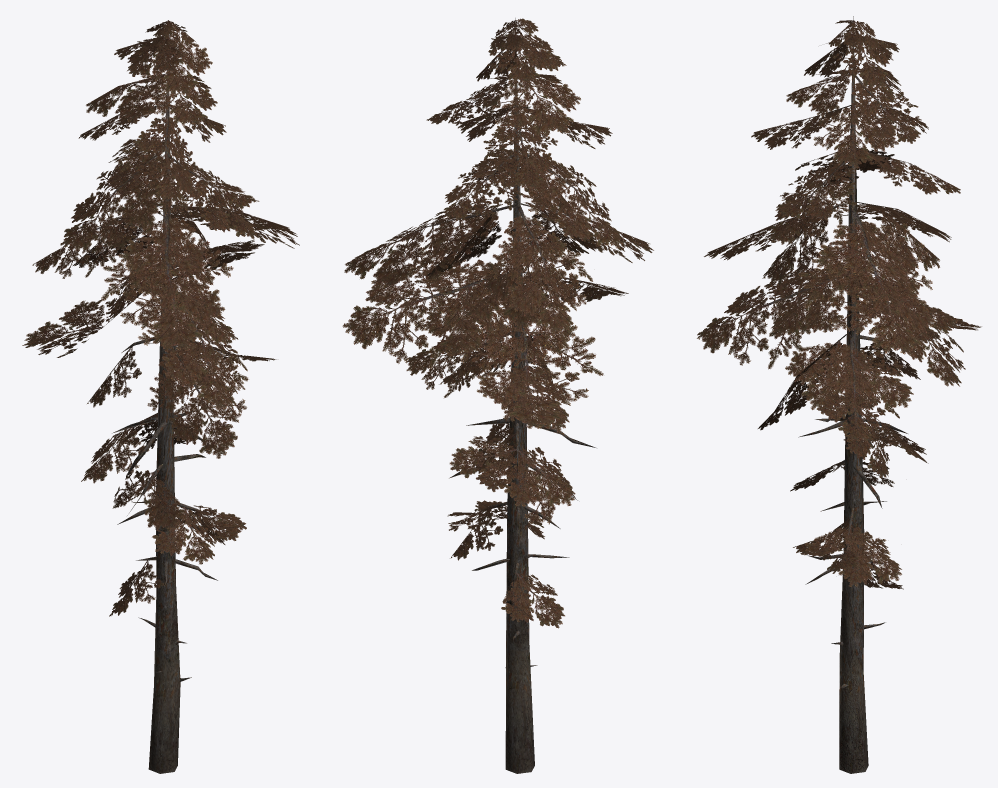
Rendered from trees_sosna_1_red_01_low_LOD1.fbx.
3 views of the same model, side by side, from view 1: azimuth 30°, elevation 25°; view 2: azimuth 150°, elevation 25°; view 3: azimuth 270°, elevation 25° (orthographic).
Parts seen in each view (by area): view 1: trees_sosna_1_red_01_low_LOD1; view 2: trees_sosna_1_red_01_low_LOD1; view 3: trees_sosna_1_red_01_low_LOD1.
Boxes of the visible parts, left/top/right/bottom form: trees_sosna_1_red_01_low_LOD1: left=22, top=20, right=299, bottom=773; trees_sosna_1_red_01_low_LOD1: left=342, top=18, right=653, bottom=773; trees_sosna_1_red_01_low_LOD1: left=697, top=16, right=981, bottom=773.
Size of the model in its own units: 1059 by 2841 by 1009.
